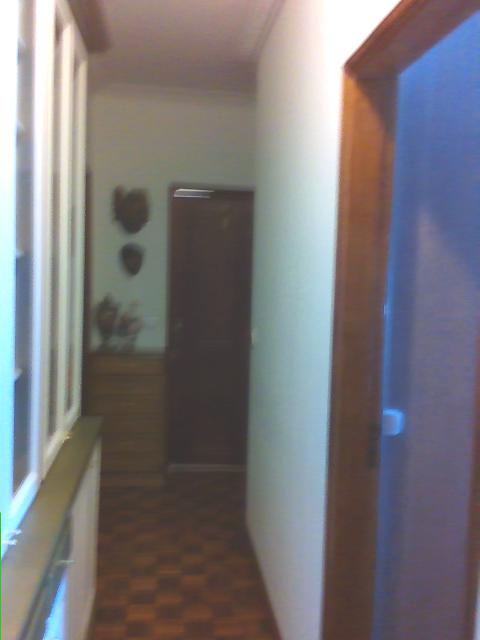closed_door: (164, 180, 254, 462)
